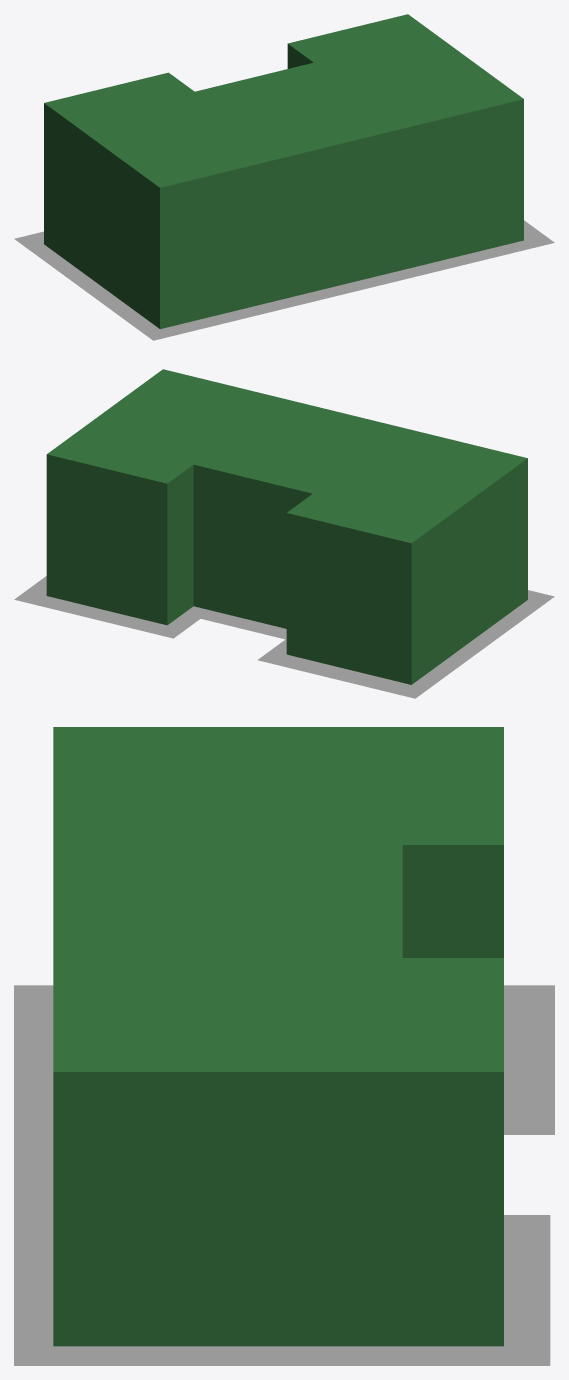
File: Building_2.fbx
3 renders of one model, top to bottom at view 1: azimuth 30°, elevation 25°; view 2: azimuth 150°, elevation 25°; view 3: azimuth 270°, elevation 25°, orthographic. The views are drawn at different scales.
Visible parts, largest first — view 1: building2, building2_shdw; view 2: building2, building2_shdw; view 3: building2, building2_shdw.
Boxes of the visible parts, <box> form: building2: <box>44,14,523,329</box>; building2_shdw: <box>14,220,554,340</box>; building2: <box>46,369,527,684</box>; building2_shdw: <box>14,576,554,698</box>; building2: <box>53,727,503,1346</box>; building2_shdw: <box>14,985,554,1365</box>.
Size of the model in its own units: 238 by 79.96 by 143.
